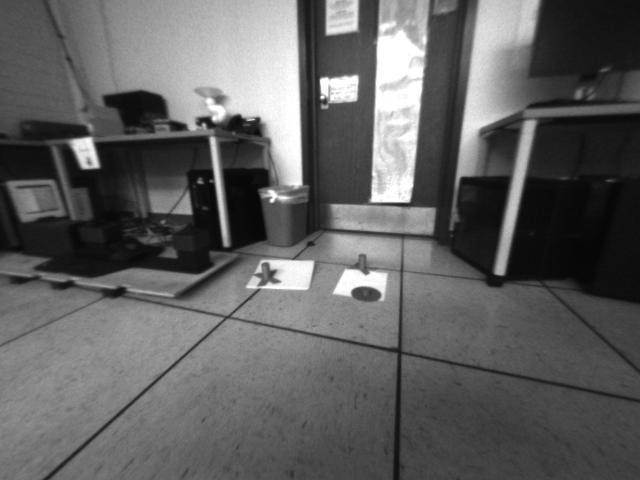X: (253, 262, 285, 287), (349, 252, 377, 277)
